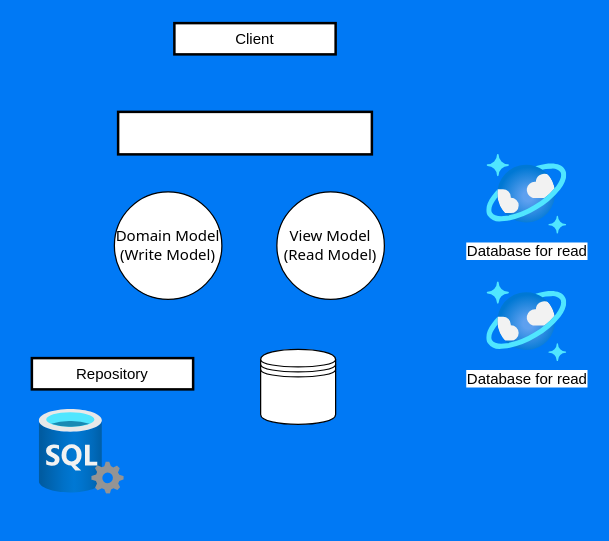
This 609x541 diagram has some shape labels left out. The shapes that lost their labels are listed below. From the top down, each one's centre as x and y in pixels, then its label:
At (x=244, y=132): "Application Service".
At (x=297, y=386): "Message Queue".
At (x=81, y=451): "Database for write".
